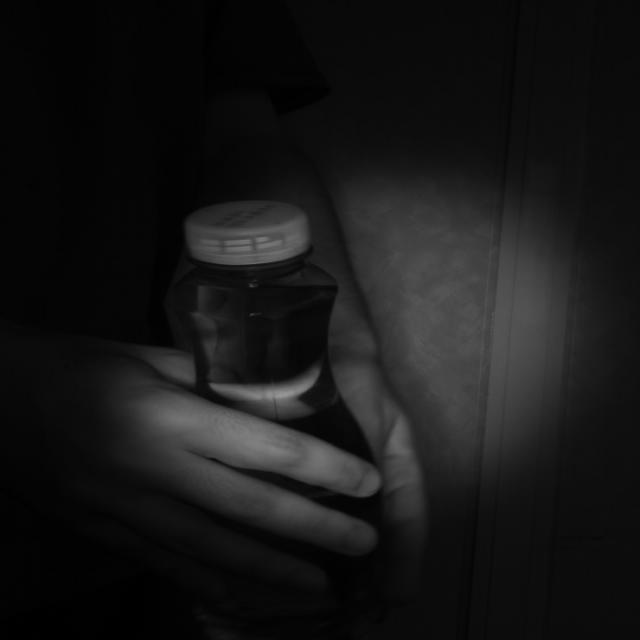Good: (185, 199, 315, 265)
